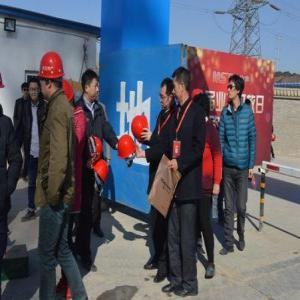none: (173, 67, 190, 103), (81, 69, 99, 102), (160, 78, 175, 110), (228, 76, 244, 104), (29, 78, 41, 103), (22, 82, 30, 99)
red: (40, 51, 66, 100)
